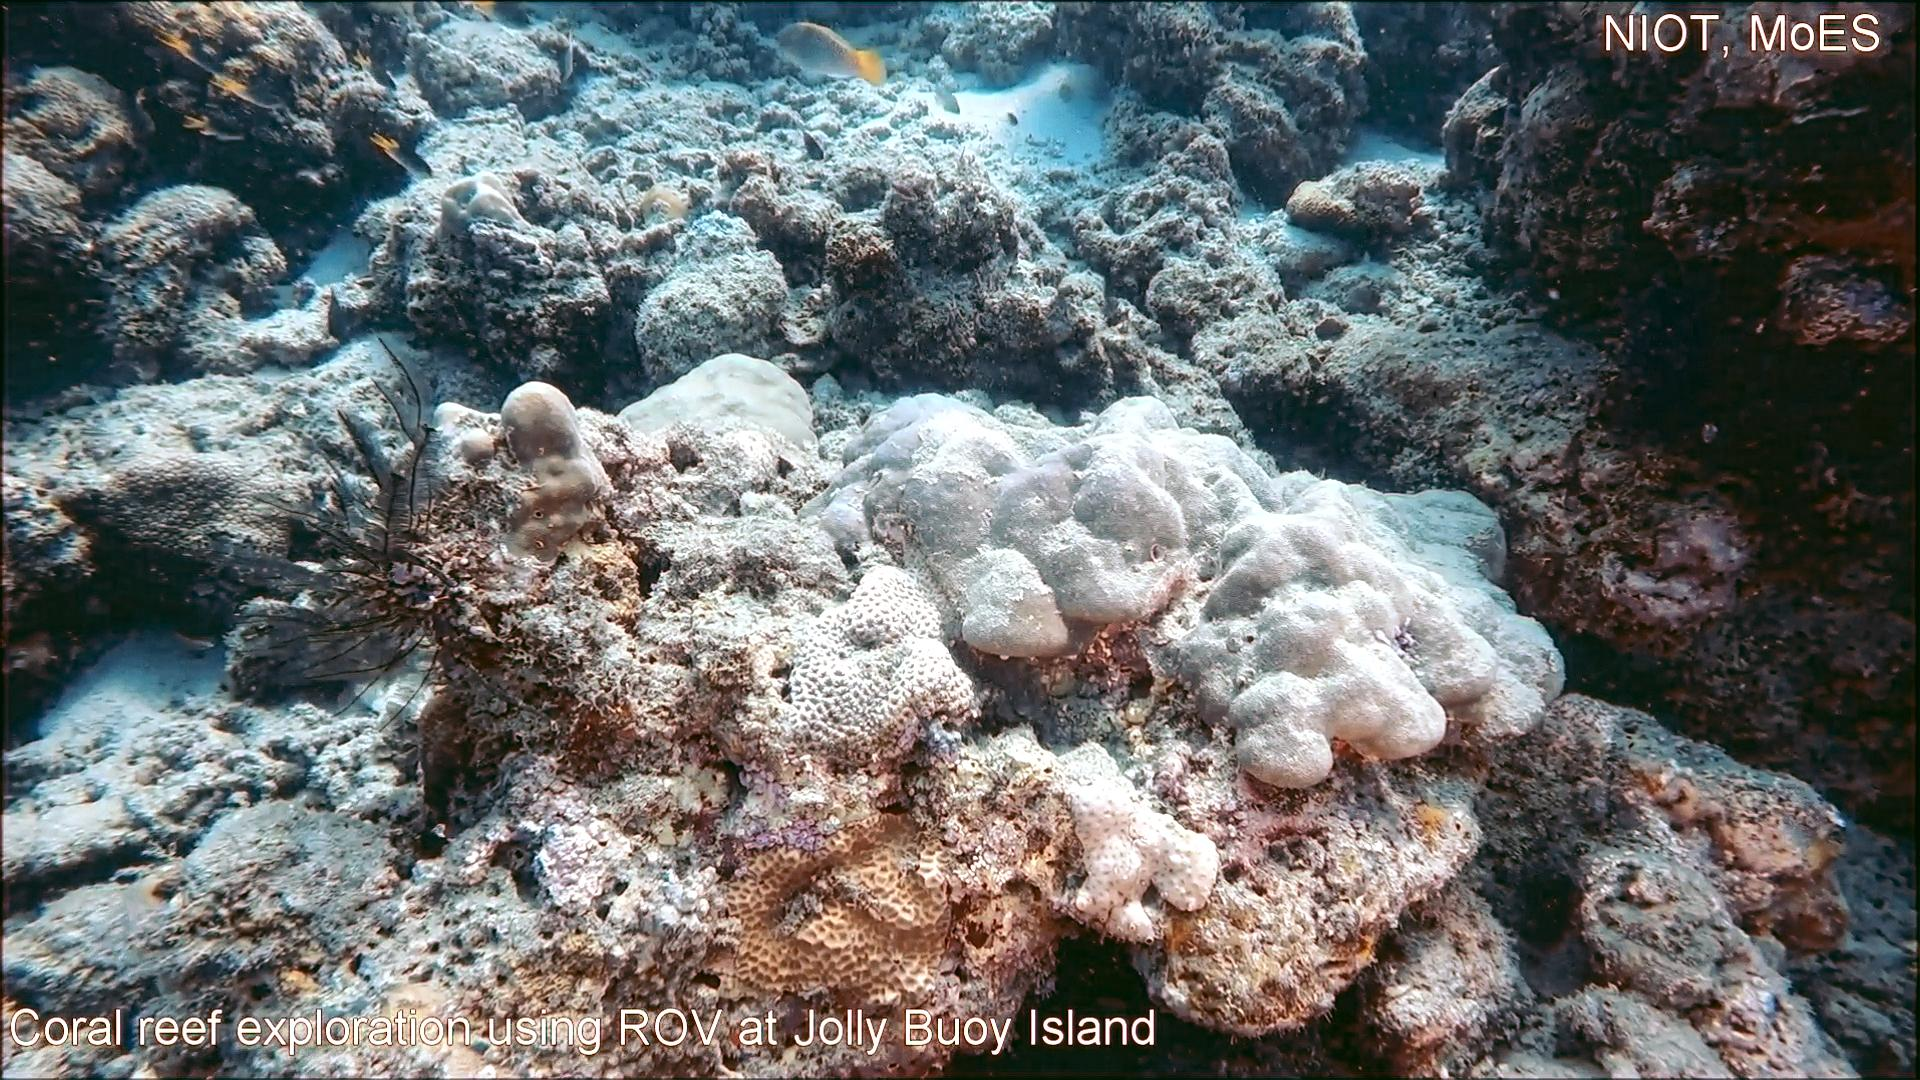Feather star-Crinoid star: (186, 328, 466, 741)
Goniastrea-Goniastrea pectinata: (784, 556, 987, 772)
Porites-Porites pukoensis: (1070, 388, 1568, 796)
Turbinaria-Turbinaria stellulata: (84, 446, 301, 572)
